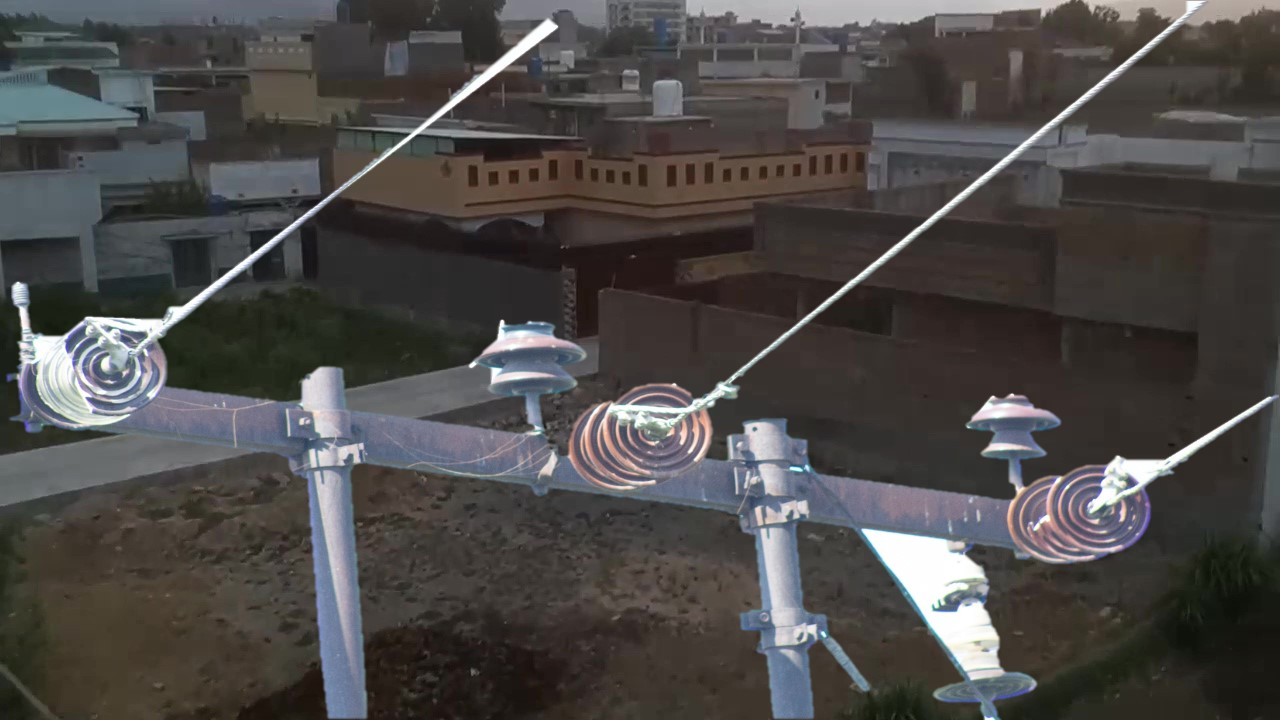defect_disc: (45, 306, 177, 432)
insulator_disc: (1038, 451, 1158, 556), (602, 376, 717, 484)
